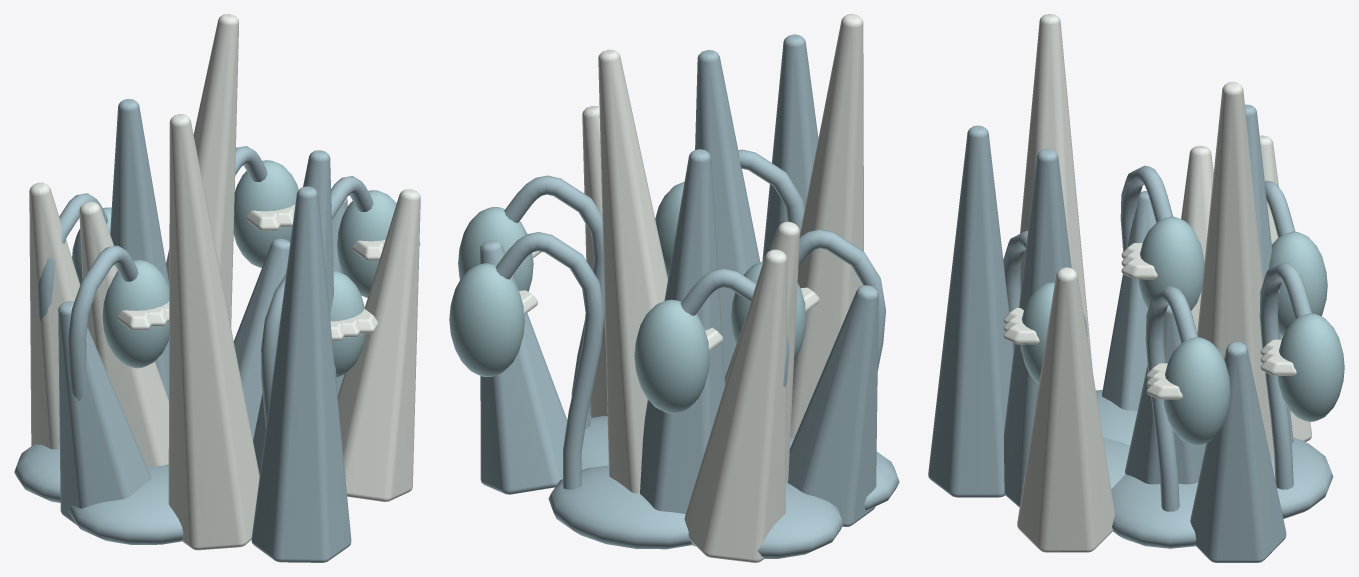
File: bio_crystal_fan_13_near.glb
3 views of the same model, side by side, from view 1: azimuth 30°, elevation 25°; view 2: azimuth 150°, elevation 25°; view 3: azimuth 270°, elevation 25° (orthographic). The views are drawn at different scales.
Parts seen in each view (by area): view 1: Reflecting mineral prism.007, Reflecting mineral prism.002, Reflecting mineral prism.005, Reflecting mineral prism.004, Reflecting mineral prism.003, Reflecting mineral prism.001, Reflecting mineral prism.009, Mineral substrate, Reflecting mineral prism.006, Pendant spore capsule.004, Reflecting mineral prism, Pendant spore capsule.003 (+13 smaller); view 2: Reflecting mineral prism.001, Reflecting mineral prism.003, Reflecting mineral prism.007, Reflecting mineral prism.004, Mineral substrate, Reflecting mineral prism.006, Reflecting mineral prism.008, Reflecting mineral prism.010, Pendant spore capsule.001, Pendant spore capsule.003, Arched fruit stem.003, Reflecting mineral prism.002 (+9 smaller); view 3: Reflecting mineral prism.002, Reflecting mineral prism.005, Reflecting mineral prism.003, Reflecting mineral prism.008, Mineral substrate, Reflecting mineral prism.010, Reflecting mineral prism.007, Pendant spore capsule, Pendant spore capsule.003, Reflecting mineral prism.004, Arched fruit stem.003, Arched fruit stem (+14 smaller).
Boxes of the visible parts, x1,y1,x2,y2 form: Reflecting mineral prism.007: (168,114,259,550); Reflecting mineral prism.002: (251,186,351,562); Reflecting mineral prism.005: (337,189,420,501); Reflecting mineral prism.004: (58,301,151,525); Reflecting mineral prism.003: (166,14,238,327); Reflecting mineral prism.001: (29,182,80,449); Reflecting mineral prism.009: (79,201,168,466); Mineral substrate: (14,444,183,544); Reflecting mineral prism.006: (110,99,169,399); Pendant spore capsule.004: (102,259,169,368); Reflecting mineral prism: (233,238,290,439); Pendant spore capsule.003: (233,160,298,267); Reflecting mineral prism.001: (684,249,787,562); Reflecting mineral prism.003: (598,49,667,493); Reflecting mineral prism.007: (790,14,863,438); Reflecting mineral prism.004: (788,285,878,526); Mineral substrate: (548,416,899,558); Reflecting mineral prism.006: (640,149,725,513); Reflecting mineral prism.008: (480,240,567,494); Reflecting mineral prism.010: (695,50,760,375); Pendant spore capsule.001: (634,299,709,413); Pendant spore capsule.003: (449,263,524,376); Arched fruit stem.003: (495,232,604,489); Reflecting mineral prism.002: (762,34,818,261); Reflecting mineral prism.002: (928,125,1013,497); Reflecting mineral prism.005: (1017,267,1114,552); Reflecting mineral prism.003: (1197,82,1274,458); Reflecting mineral prism.008: (1190,342,1286,562); Mineral substrate: (1096,390,1333,548); Reflecting mineral prism.010: (1004,148,1071,507); Reflecting mineral prism.007: (1020,14,1092,368); Pendant spore capsule: (1163,337,1230,445); Pendant spore capsule.003: (1277,313,1344,421); Reflecting mineral prism.004: (1102,191,1155,410); Arched fruit stem.003: (1259,262,1311,489); Arched fruit stem: (1145,286,1197,511).
Bounding box in the file's own units: 1.63 × 1.85 × 1.59.
